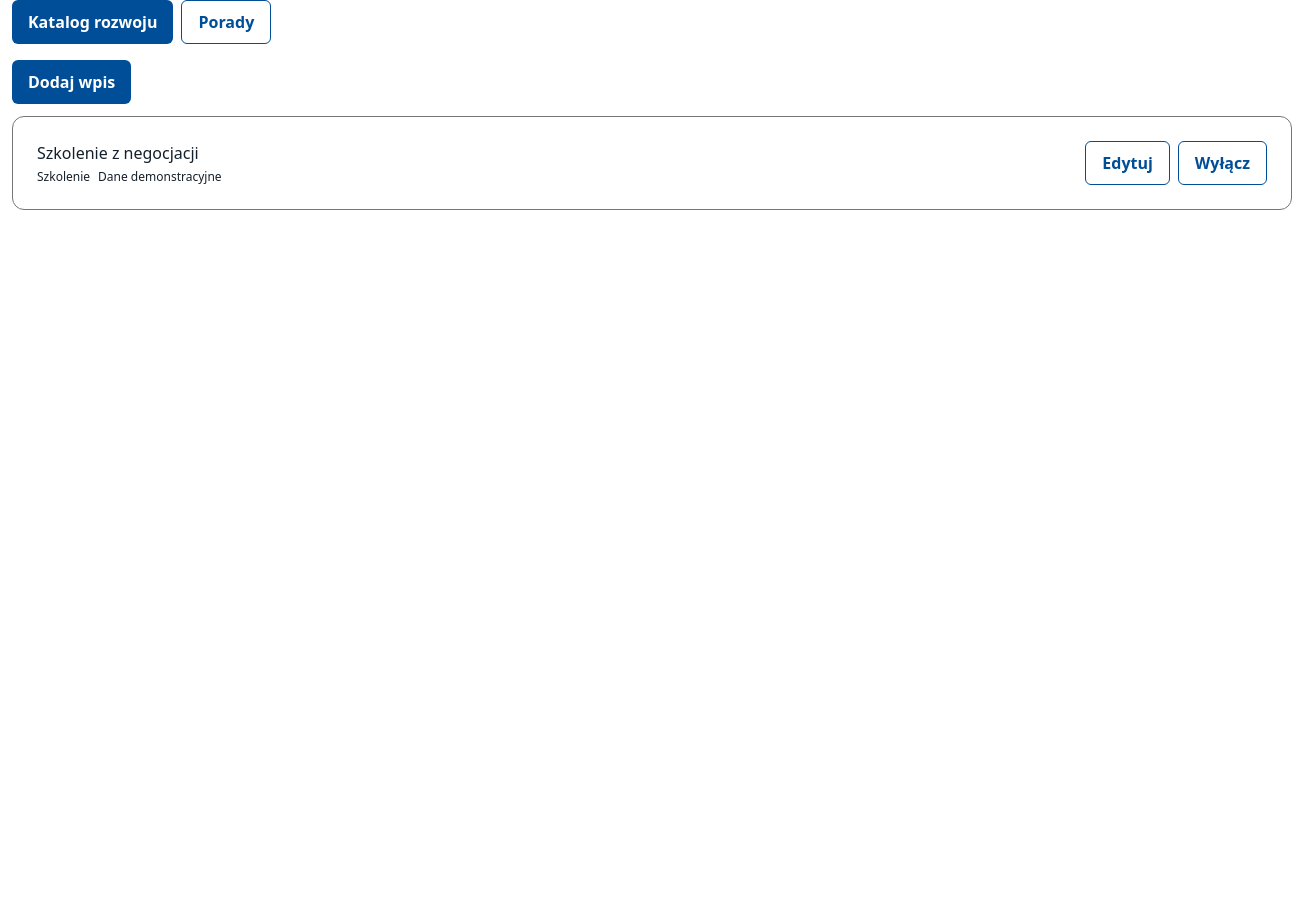
it: advice tab › rejects an article without a title or content and says why
The image size is (1304, 900).
Click the button "Porady" at point(226, 22), box [182,0,271,44]
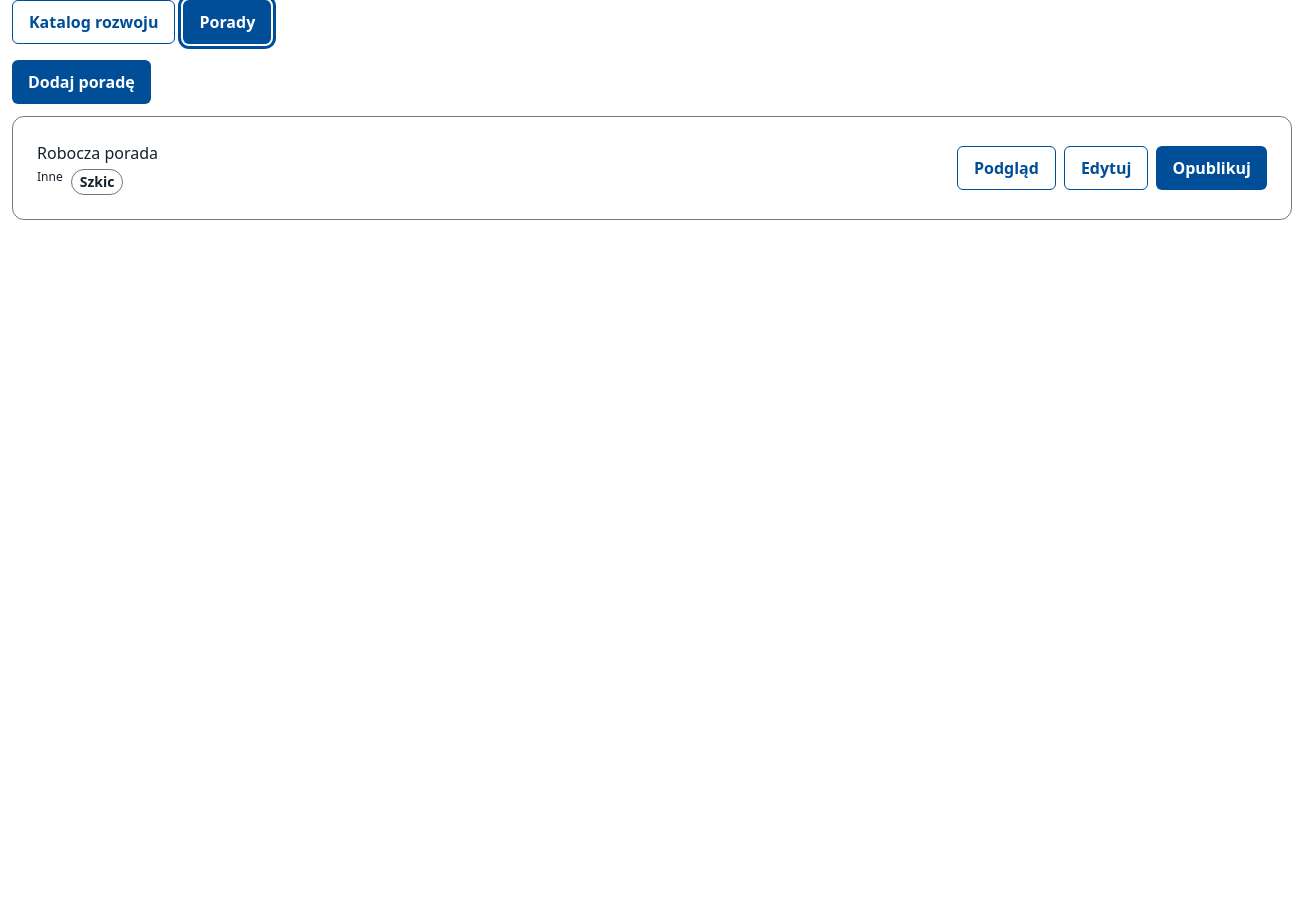
Click the button "Dodaj poradę" at point(81, 82), box [12,60,151,104]
(page scrolled)
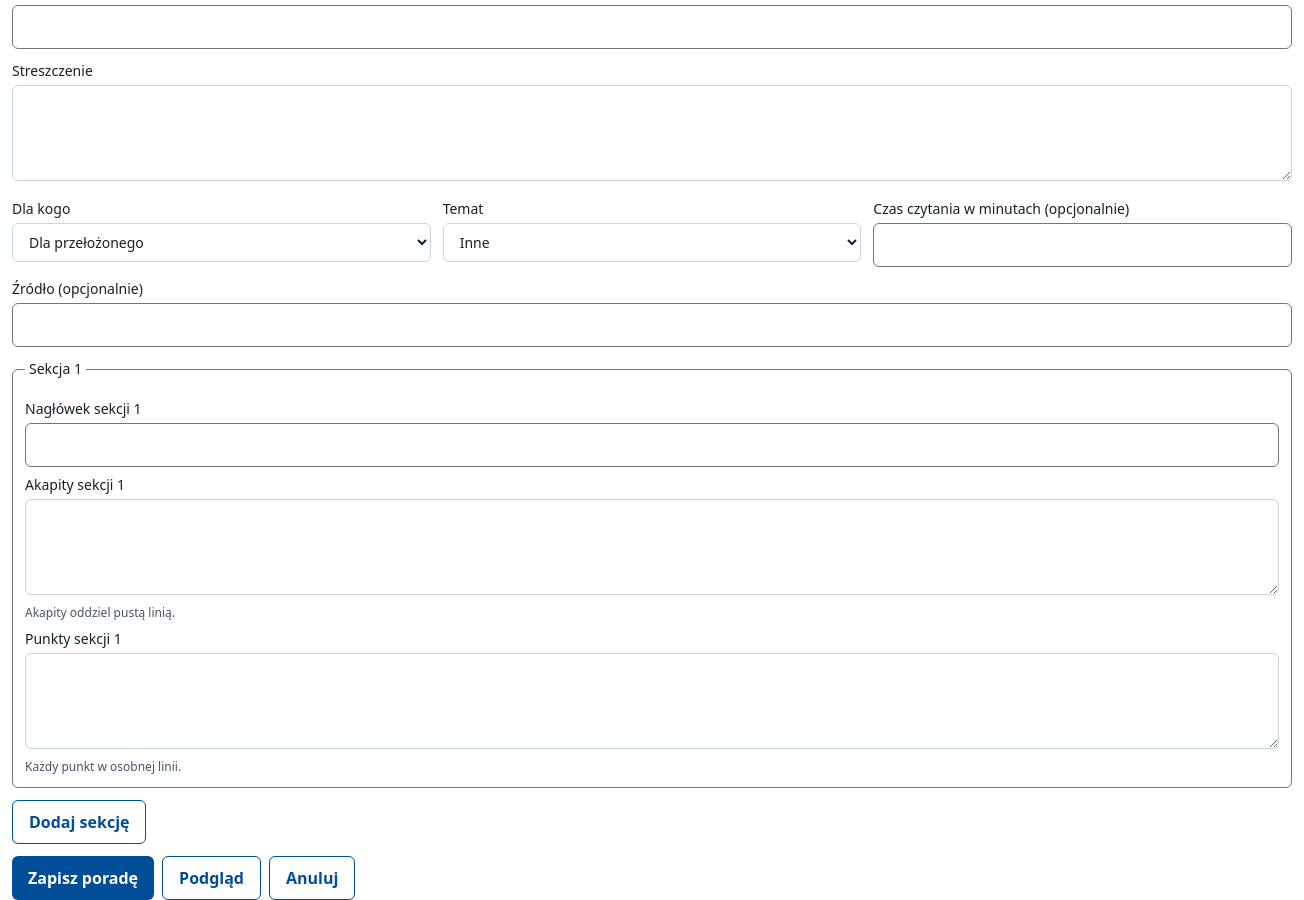
Click the button "Zapisz poradę" at point(83, 878), box [12,856,154,899]
(page scrolled)
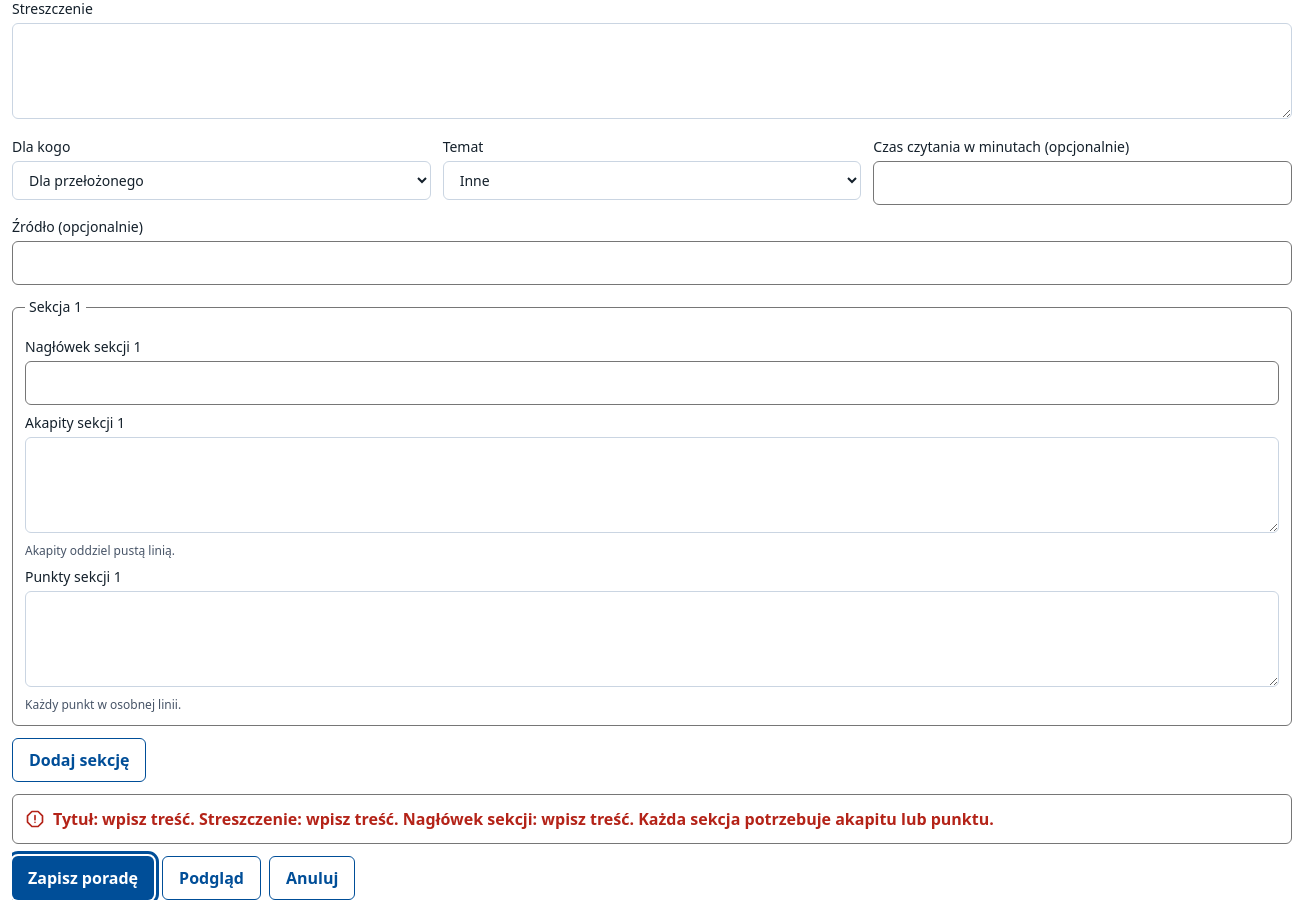
Now the message shows "Tytuł: wpisz treść", box [53,808,994,830]
